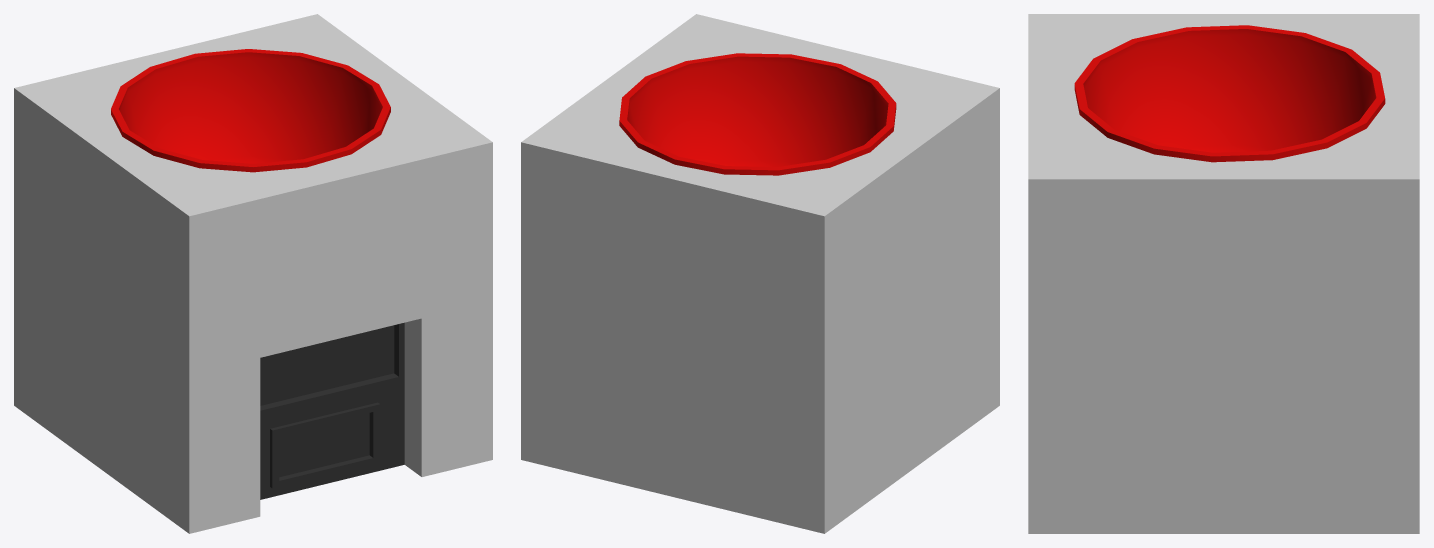
The model's file is Waschkessel.fbx.
The picture shows the model from 3 angles, left to right: view 1: azimuth 30°, elevation 25°; view 2: azimuth 150°, elevation 25°; view 3: azimuth 270°, elevation 25°; orthographic projection. The views are drawn at different scales.
Visible parts, largest first — view 1: Waschkessel; view 2: Waschkessel; view 3: Waschkessel.
Boxes of the visible parts, x1,y1,x2,y2 form: Waschkessel: [14, 14, 492, 533]; Waschkessel: [521, 14, 999, 533]; Waschkessel: [1028, 14, 1419, 533].
Size of the model in its own units: 70 by 71.15 by 70.
